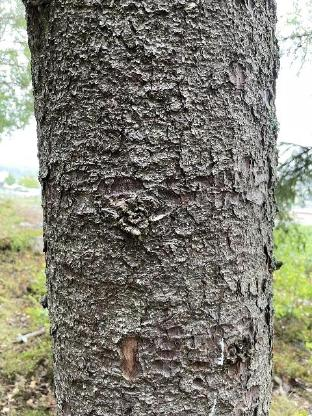tree: (16, 0, 291, 416)
